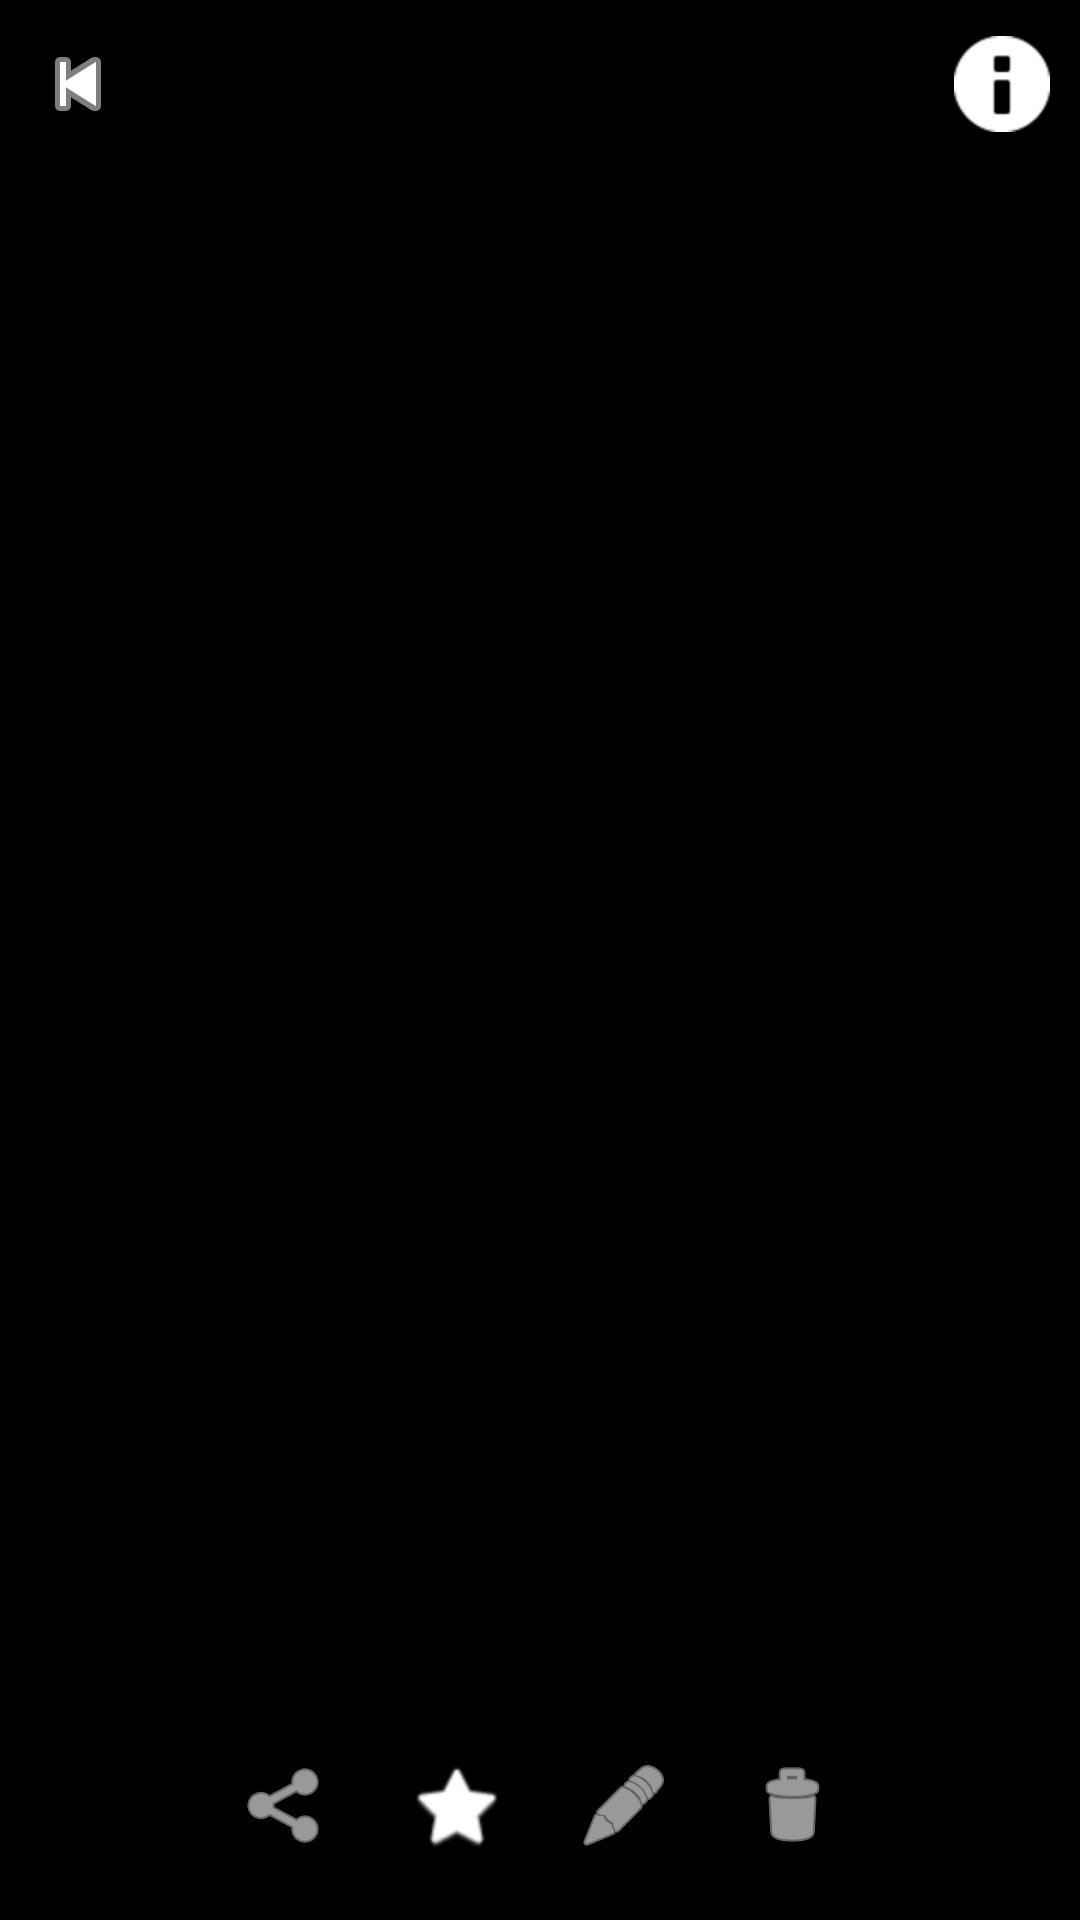

Screen size 1080 × 1920. Icon name, then its box in pixels as (x1, y1, x2, y2):
delete: (765, 1767, 820, 1842)
edit: (583, 1765, 664, 1846)
info: (954, 36, 1050, 132)
previous: (55, 57, 101, 111)
share: (247, 1768, 319, 1843)
star: (417, 1768, 497, 1846)
